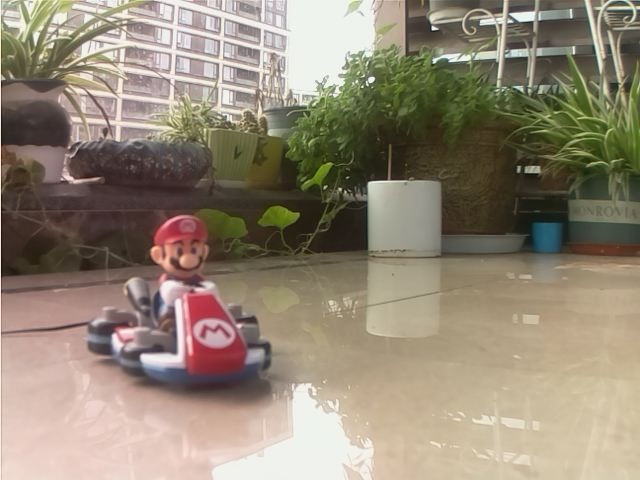mario: (80, 196, 282, 397)
